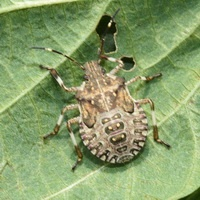insect: (31, 14, 170, 169)
